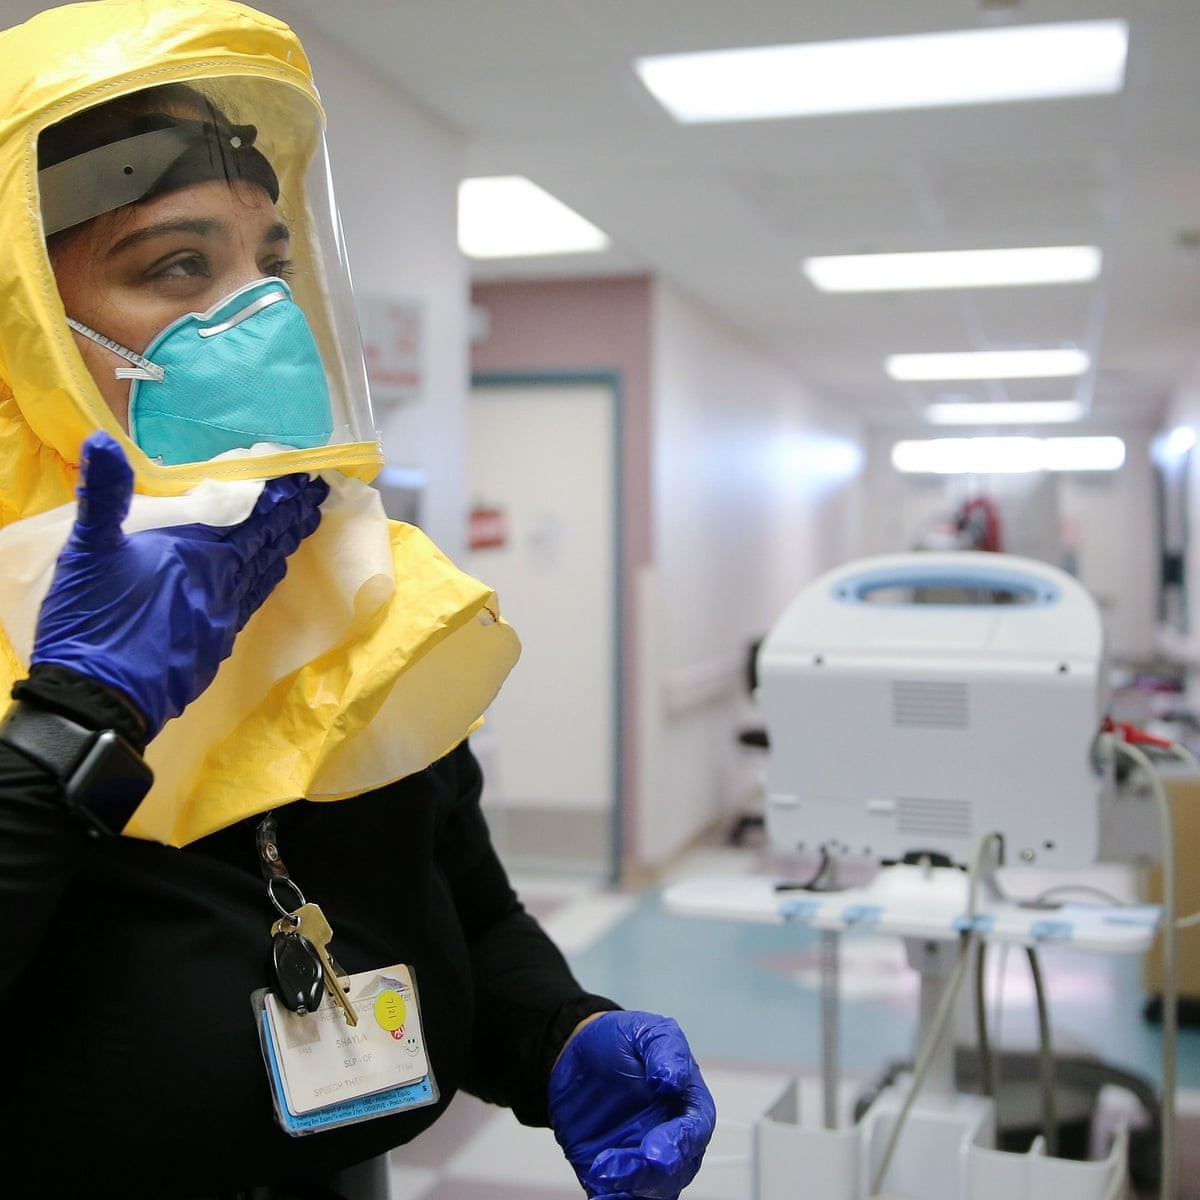Face_Shield: (25, 119, 391, 479)
Gloves: (24, 433, 338, 746), (547, 1005, 721, 1200)
with_mask: (106, 223, 338, 489)
